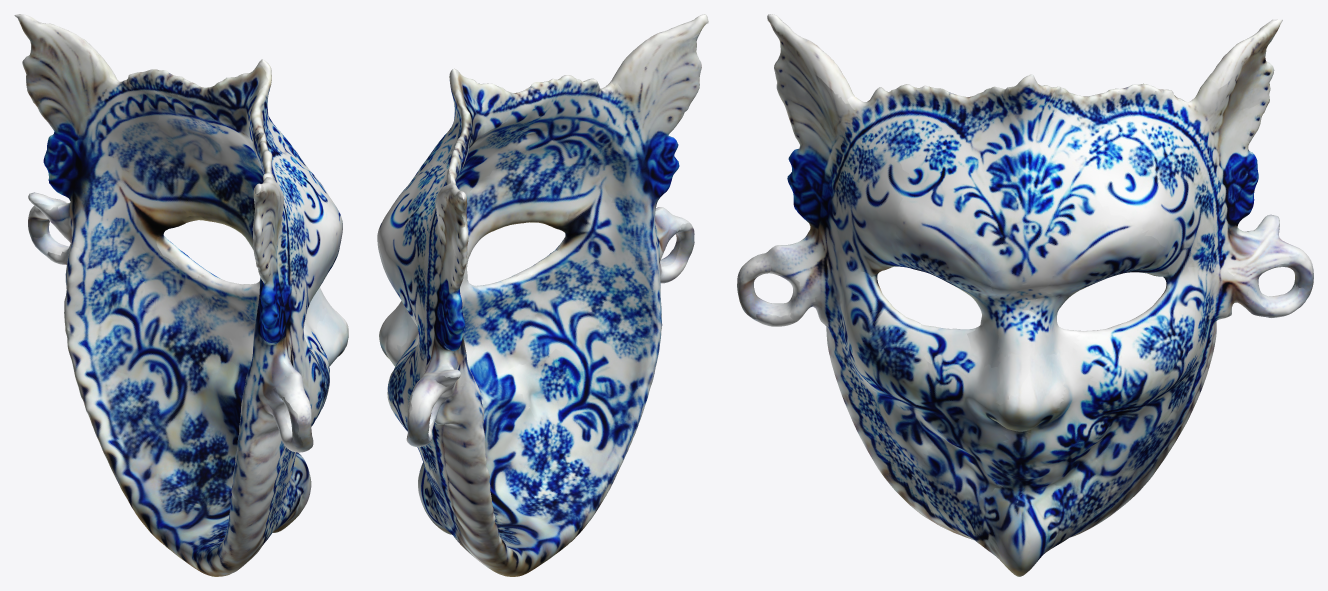
File: qinghuacimianju.glb
3 views of the same model, side by side, from view 1: azimuth 30°, elevation 25°; view 2: azimuth 150°, elevation 25°; view 3: azimuth 270°, elevation 25° (orthographic). The views are drawn at different scales.
Parts seen in each view (by area): view 1: Object_4; view 2: Object_4; view 3: Object_4.
Part boxes in pixels (x1=…): Object_4: x1=14, y1=14, x2=348, y2=576; Object_4: x1=377, y1=14, x2=708, y2=576; Object_4: x1=737, y1=14, x2=1313, y2=576.
Bounding box in the file's own units: 0.3618 × 0.7938 × 0.8238.
1 material, 1 textured.
